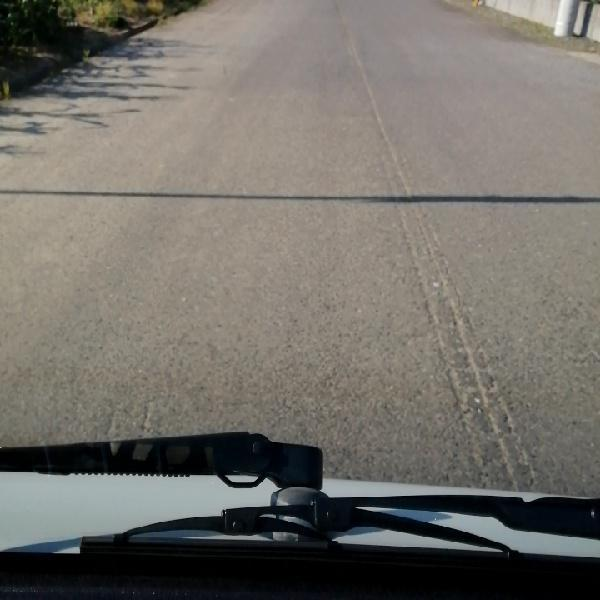D20: (418, 251, 539, 484)
